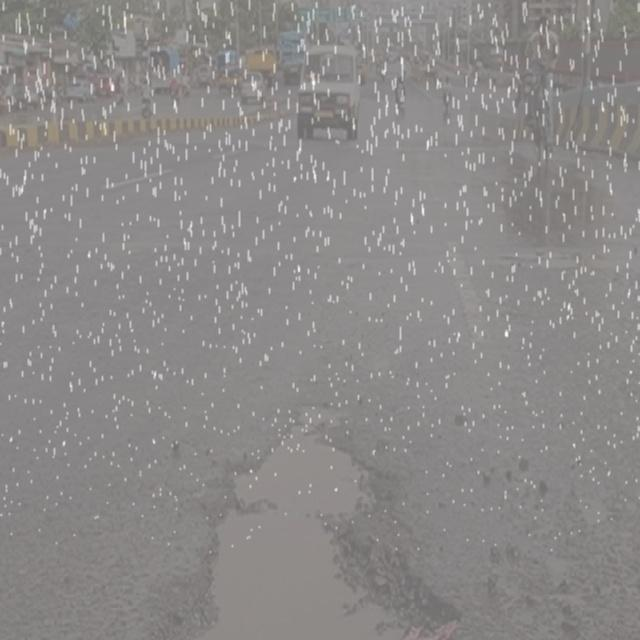Pothole: (167, 399, 480, 640)
